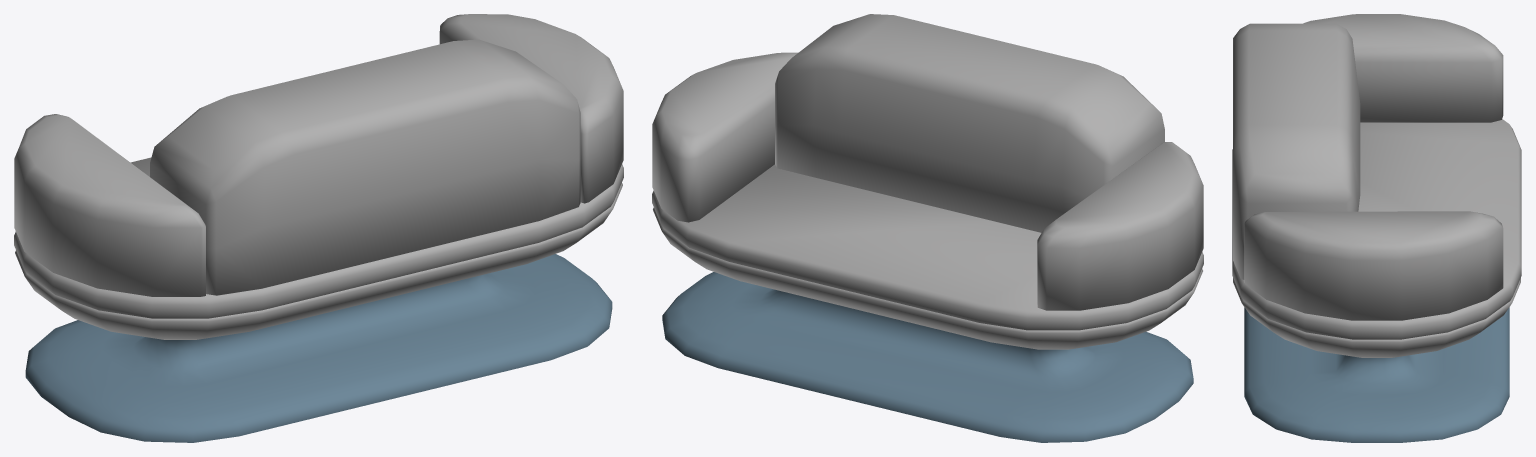
The model's file is Couch_Purple.fbx.
3 views of the same model, side by side, from view 1: azimuth 30°, elevation 25°; view 2: azimuth 150°, elevation 25°; view 3: azimuth 270°, elevation 25° (orthographic). The views are drawn at different scales.
Visible parts, largest first — view 1: Couch; view 2: Couch; view 3: Couch.
Part boxes in pixels (x1,y1,x2,y2): Couch: (14,14,623,442); Couch: (652,14,1203,442); Couch: (1232,14,1521,442).
Size of the model in its own units: 160 by 79.34 by 82.11.
